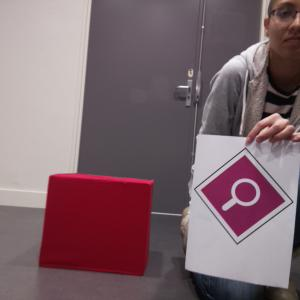search: (195, 148, 294, 243)
